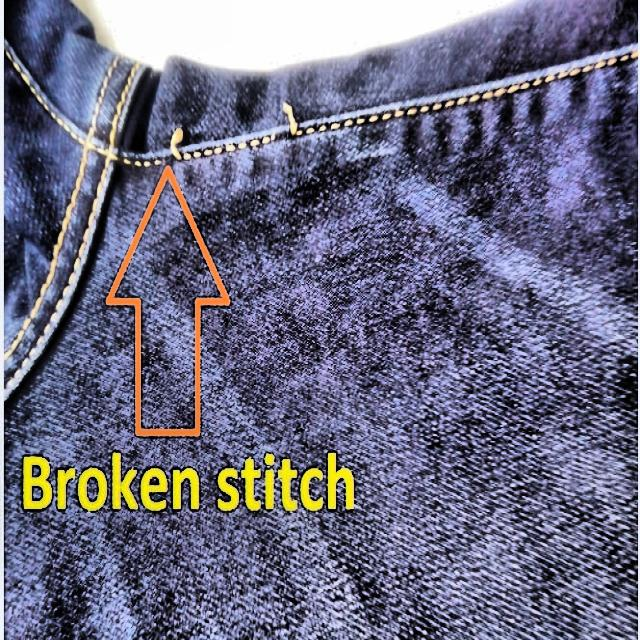Stitch: (150, 101, 324, 163)
